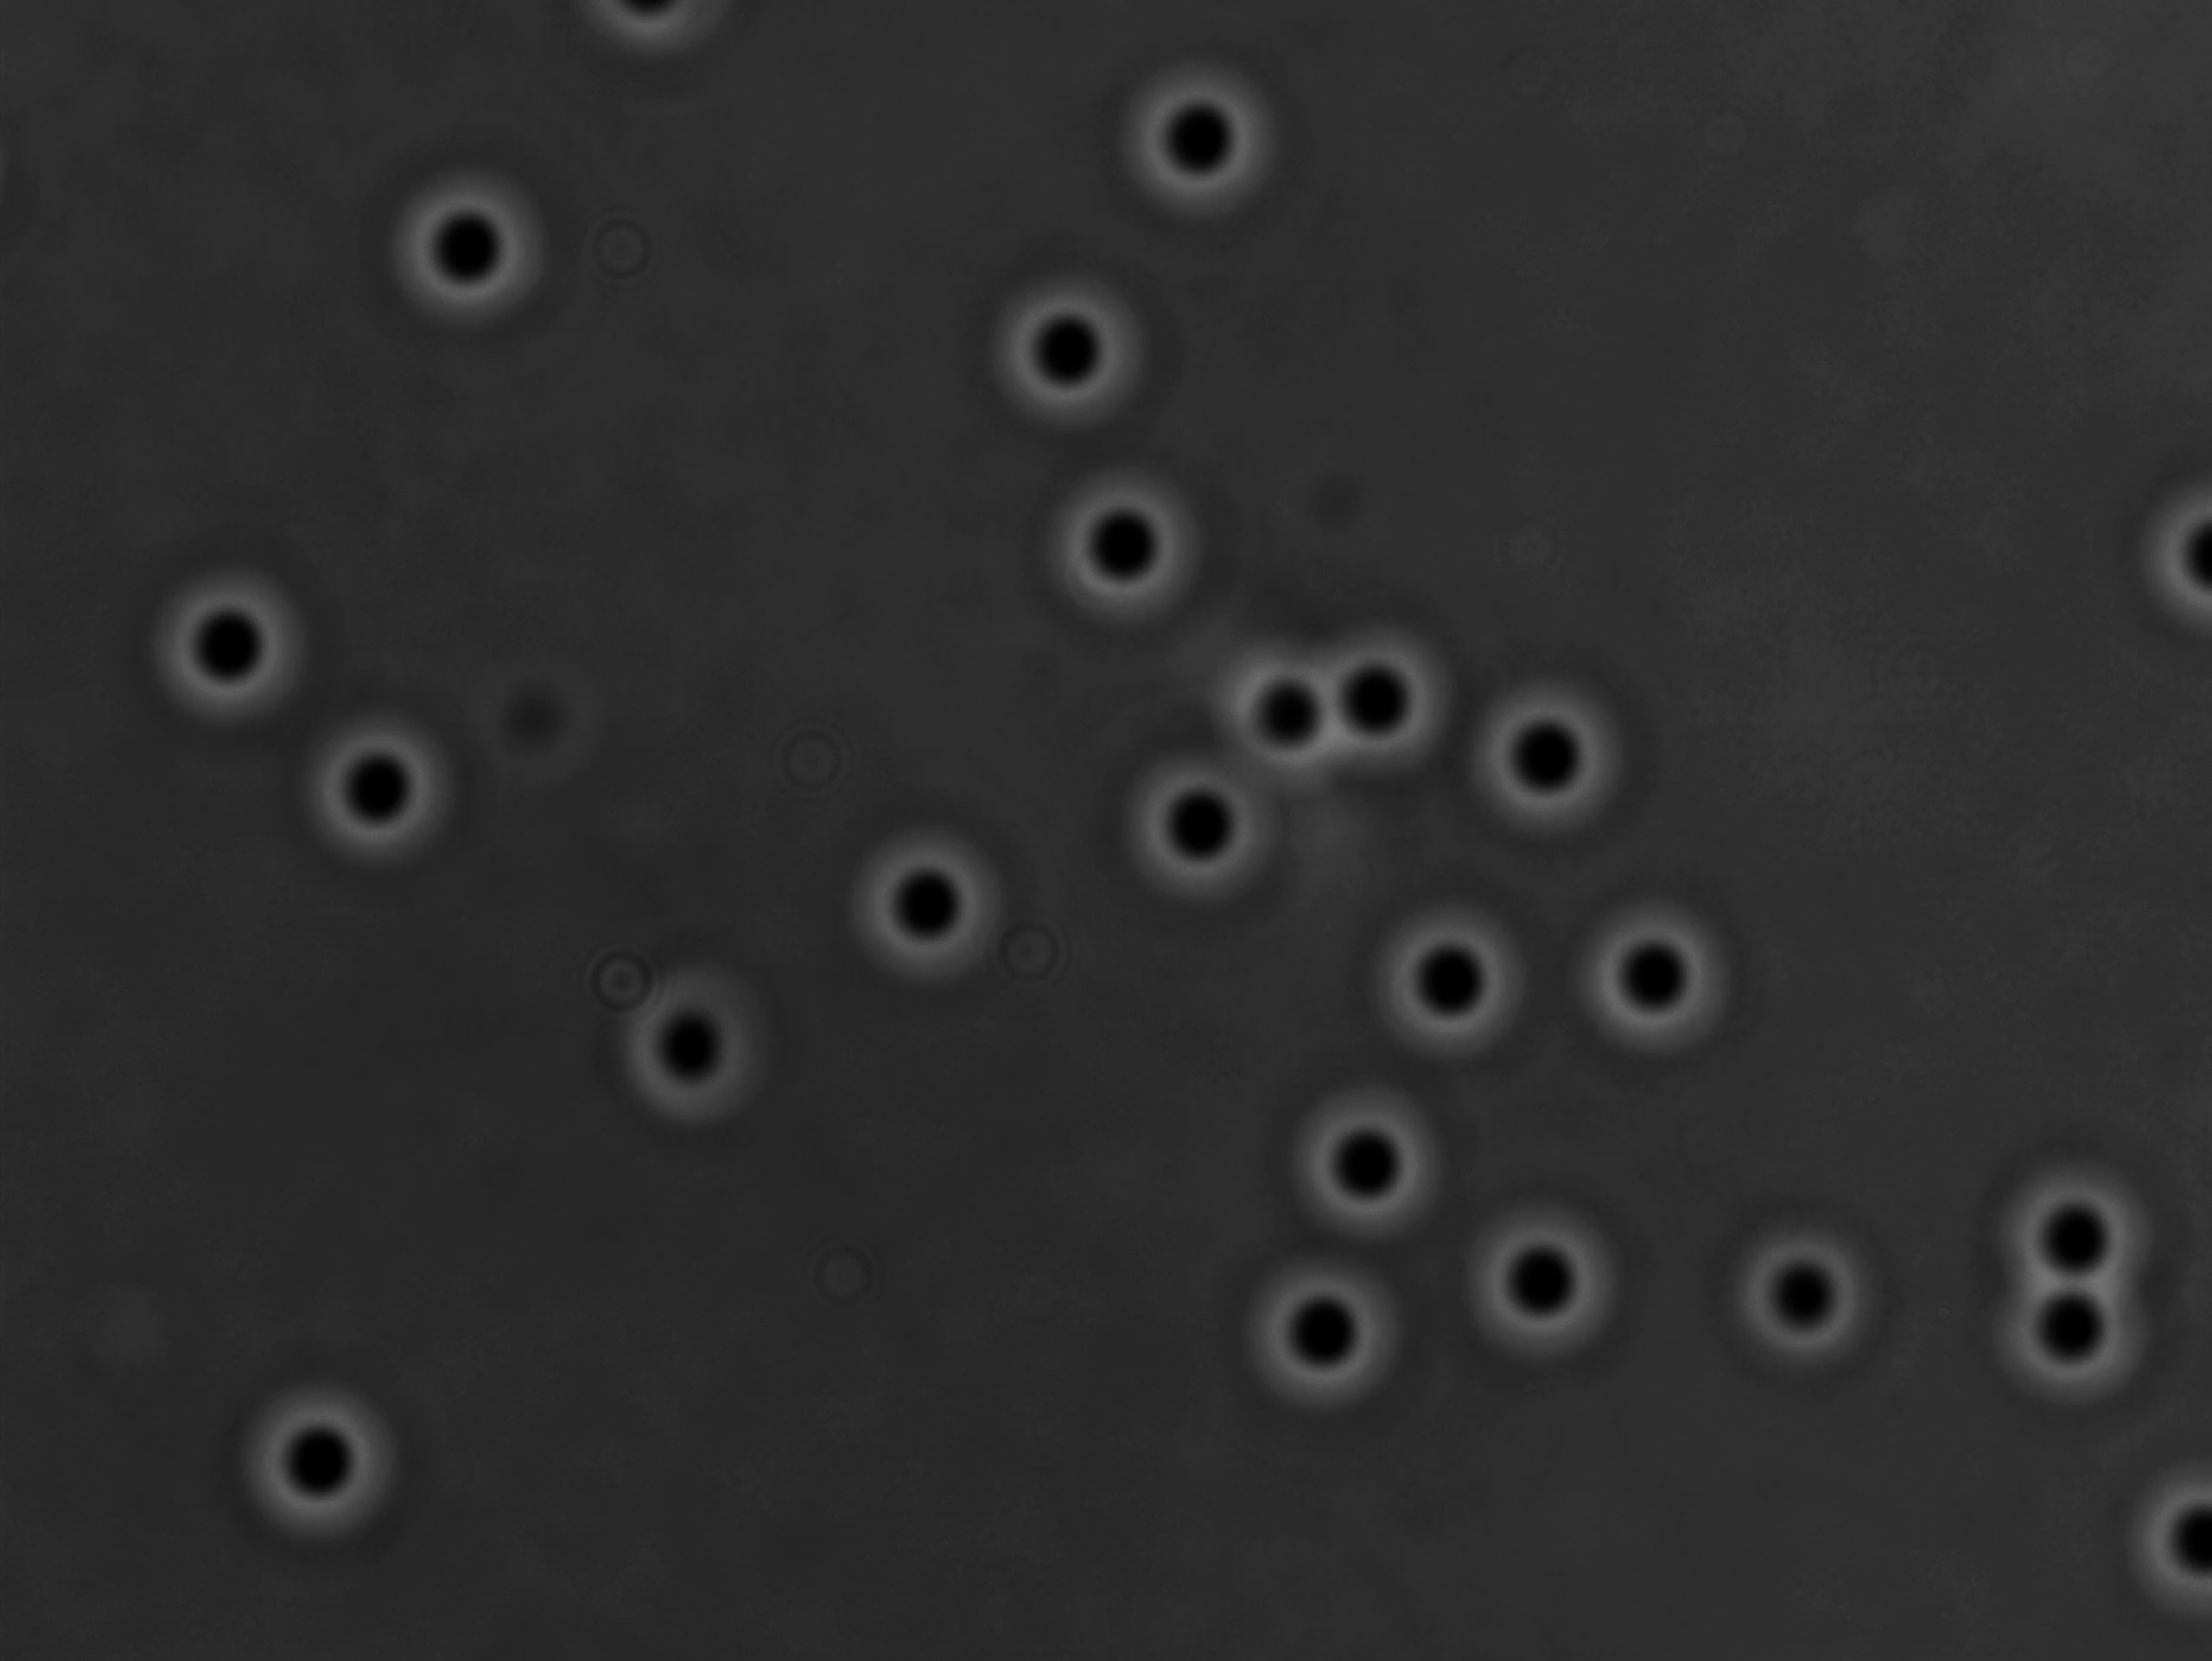depth:-80: (1976, 1120, 2182, 1321), (1563, 872, 1772, 1070), (1343, 878, 1551, 1070), (1460, 649, 1657, 846), (1430, 1186, 1631, 1380), (1279, 1059, 1485, 1247), (1185, 600, 1376, 801), (600, 961, 797, 1153), (131, 546, 333, 731), (1214, 1254, 1420, 1429), (1303, 593, 1488, 787), (1708, 1209, 1900, 1394), (1975, 1247, 2158, 1438), (218, 1375, 419, 1548), (1033, 459, 1219, 640), (1111, 740, 1298, 919), (841, 817, 1021, 998), (384, 162, 562, 338), (1111, 52, 1296, 218), (295, 703, 469, 871), (989, 269, 1160, 434)
